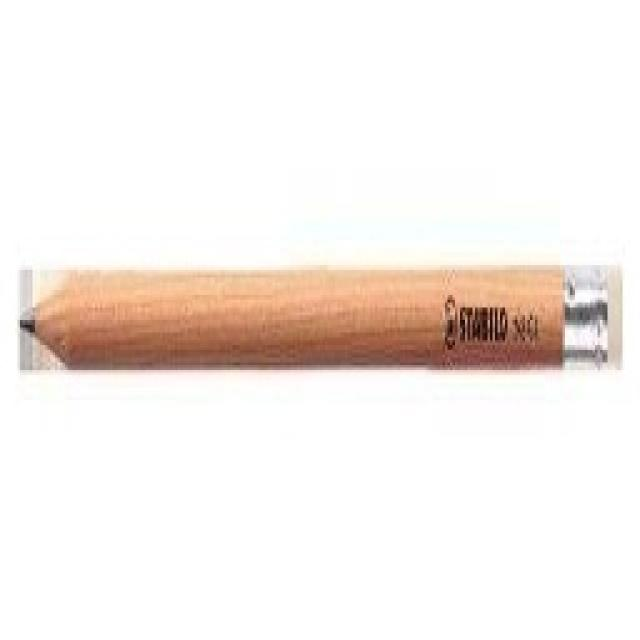pencil: (15, 257, 623, 375)
